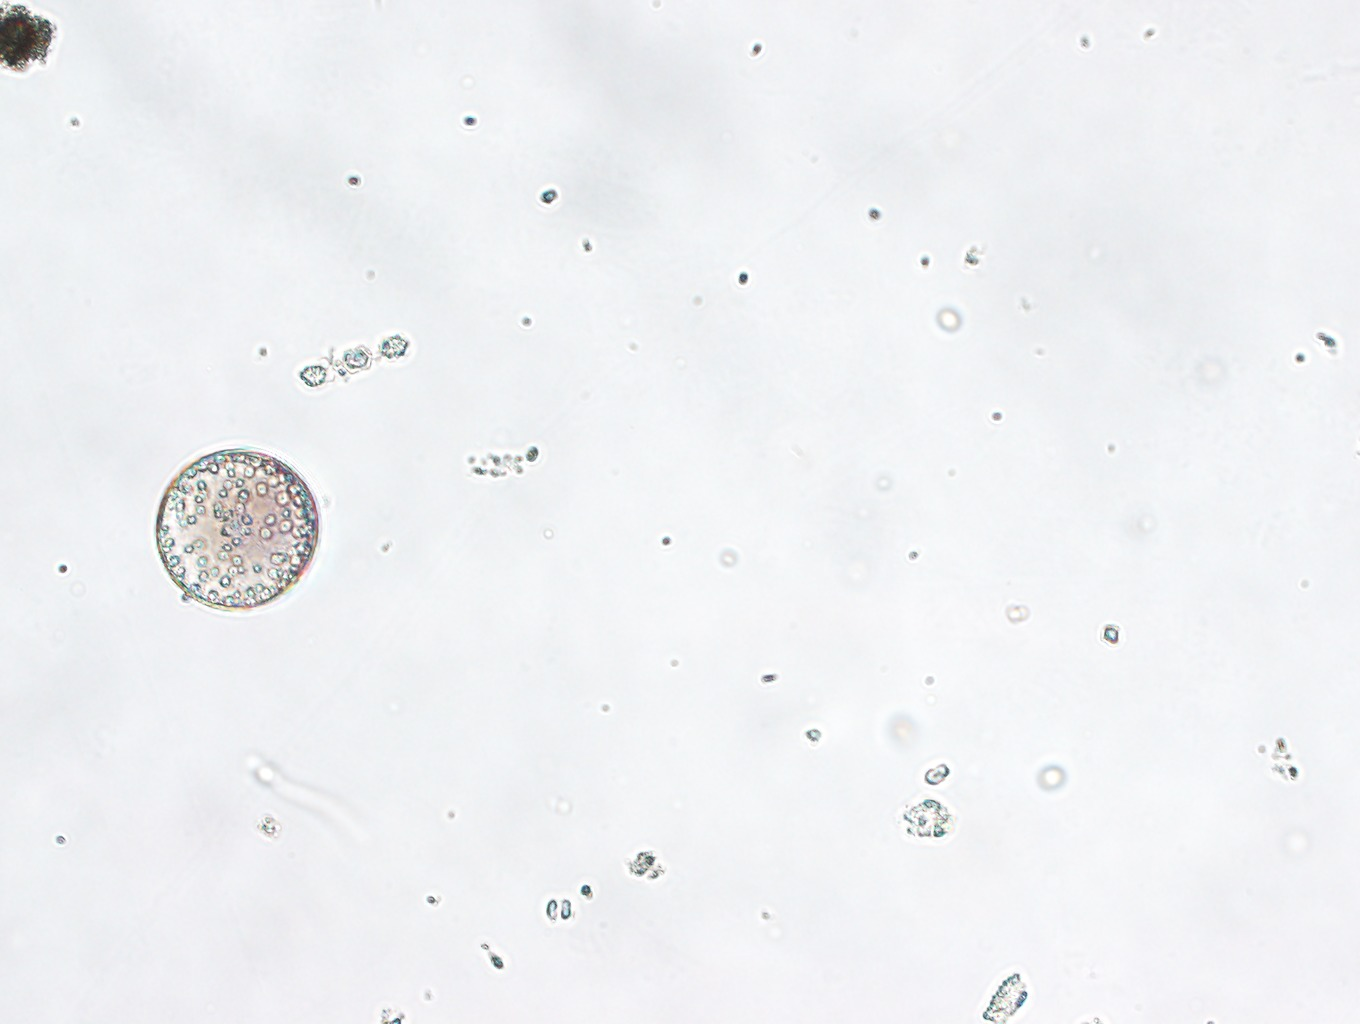coscinodiscus: (151, 444, 323, 615)
